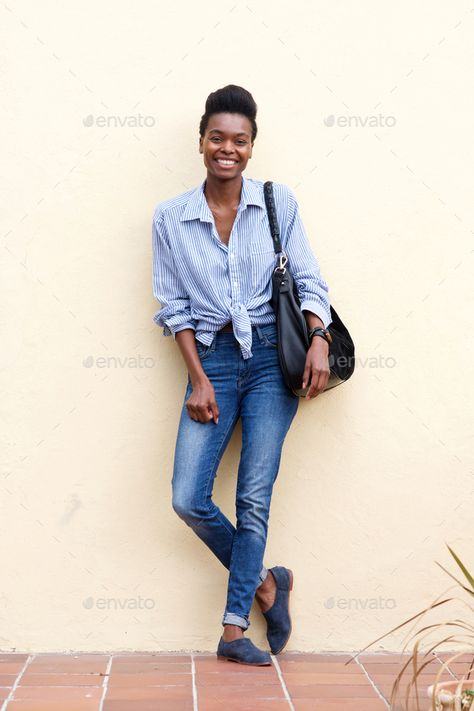person: (116, 81, 363, 684)
